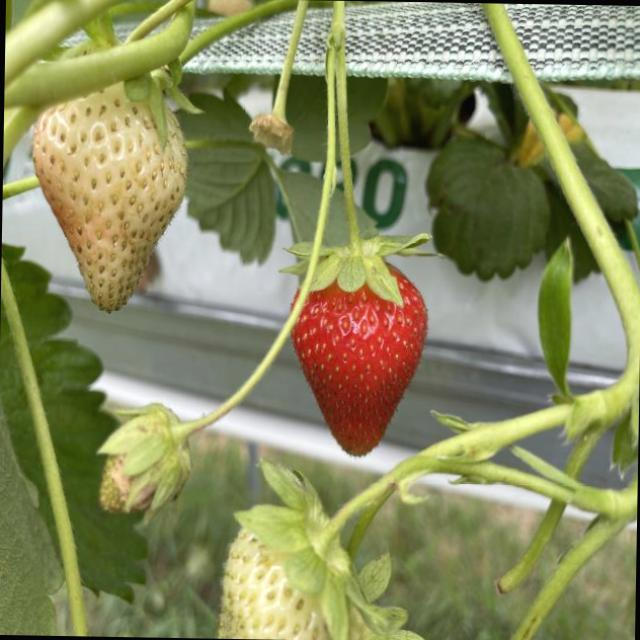stem: (311, 0, 430, 306)
strawberryNR: (33, 82, 187, 311)
strawberryR: (292, 264, 427, 454)
